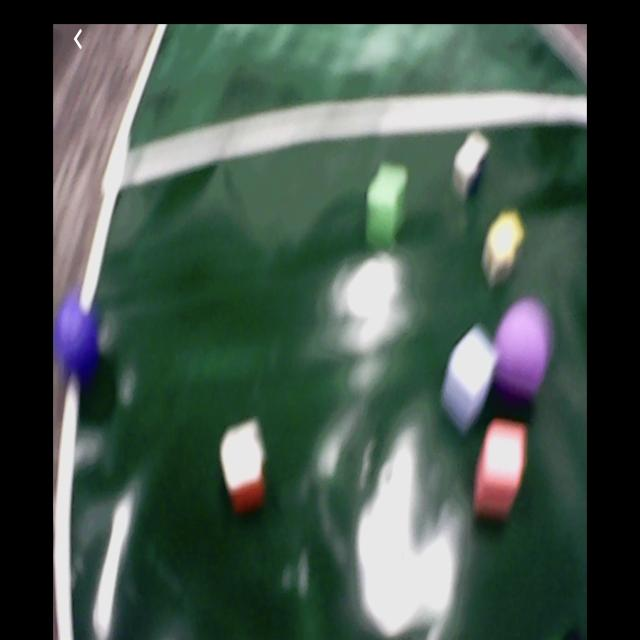ball: (497, 299, 554, 397), (55, 301, 99, 376)
